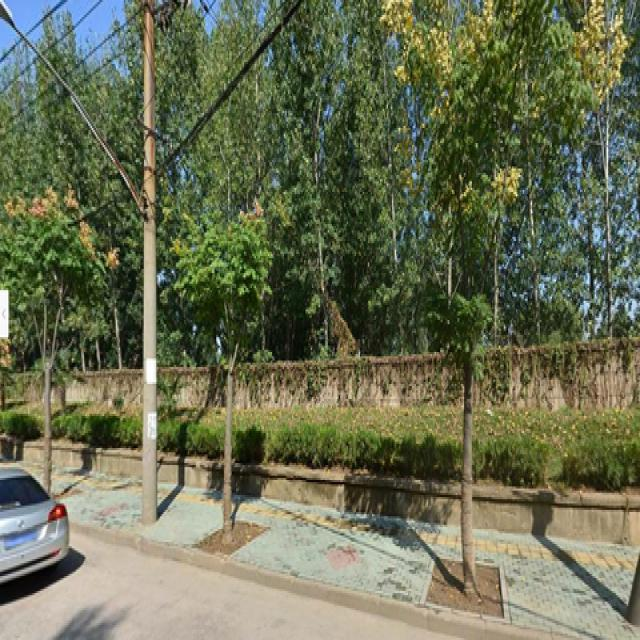koel: (416, 24, 537, 546), (187, 205, 270, 508)
